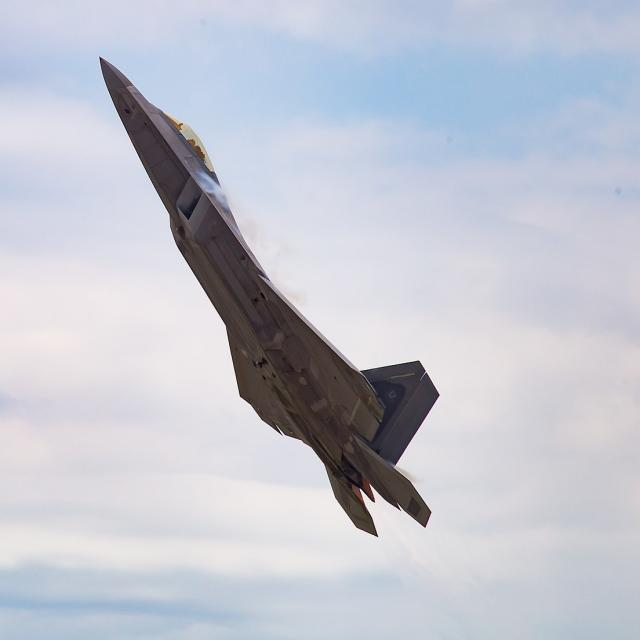MIL_Plane: (98, 57, 440, 539)
